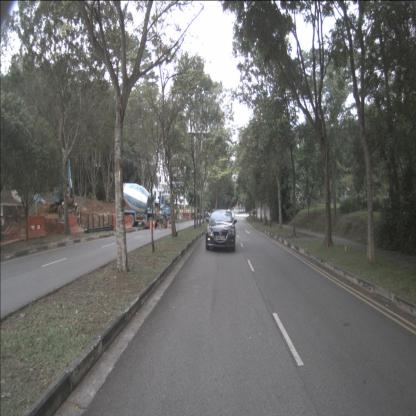barrier: (28, 216, 46, 237), (68, 216, 80, 233), (113, 215, 124, 231), (124, 215, 132, 230)
cone: (166, 219, 170, 229)
